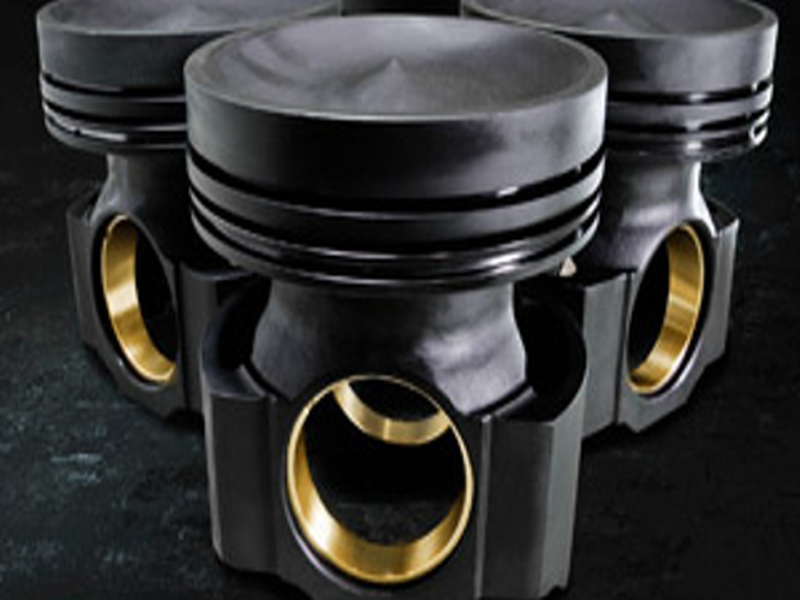piston: (178, 23, 609, 600)
